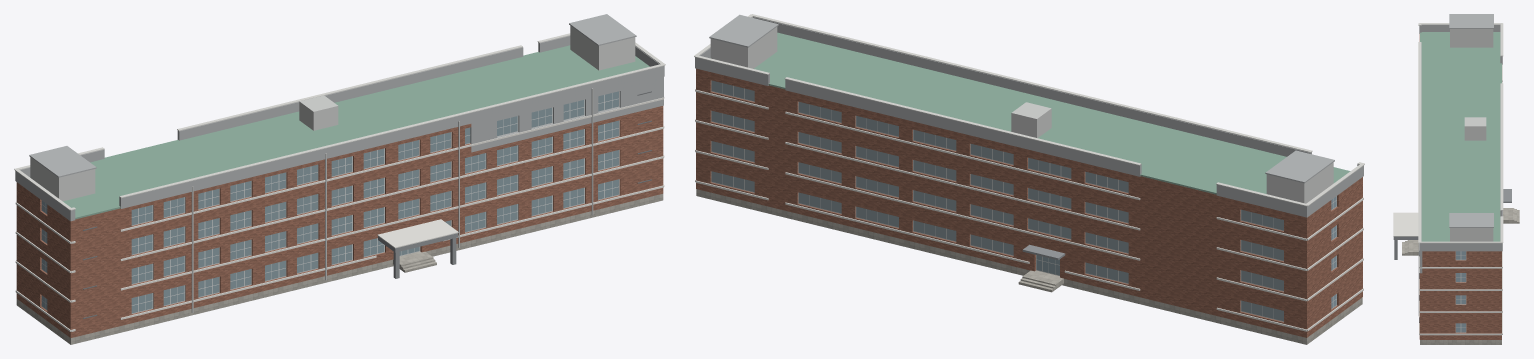
The picture shows the model from 3 angles, left to right: view 1: azimuth 30°, elevation 25°; view 2: azimuth 150°, elevation 25°; view 3: azimuth 270°, elevation 25°; orthographic projection. The views are drawn at different scales.
Parts seen in each view (by area): view 1: main__brick, main__greenroof, main__glass, main__greypanel, main__band, main__frame, main__stone, main__roofbox, main__cap, main__gutter, main__canopy; view 2: main__brick, main__greenroof, main__sideglass, main__greypanel, main__band, main__stone, main__roofbox, main__cap, main__frame; view 3: main__greenroof, main__brick, main__greypanel, main__roofbox, main__cap, main__band, main__stone, main__stairglass, main__canopy, main__frame, main__threshold-court, main__threshold-front (+2 smaller).
Part boxes in pixels (x1,y1,x2,y2): main__brick: [16, 106, 663, 337]; main__greenroof: [30, 45, 649, 219]; main__glass: [131, 91, 618, 313]; main__greypanel: [15, 14, 664, 221]; main__band: [15, 97, 664, 331]; main__frame: [41, 91, 619, 313]; main__stone: [16, 194, 663, 344]; main__roofbox: [30, 25, 635, 201]; main__cap: [14, 33, 665, 210]; main__gutter: [191, 88, 593, 312]; main__canopy: [378, 233, 457, 278]; main__brick: [696, 68, 1362, 337]; main__greenroof: [710, 32, 1350, 194]; main__sideglass: [711, 80, 1283, 321]; main__greypanel: [695, 14, 1363, 217]; main__band: [695, 89, 1363, 331]; main__stone: [696, 189, 1362, 344]; main__roofbox: [710, 27, 1333, 203]; main__cap: [694, 14, 1364, 206]; main__frame: [711, 80, 1336, 321]; main__greenroof: [1420, 32, 1501, 241]; main__brick: [1419, 34, 1501, 339]; main__greypanel: [1419, 14, 1502, 273]; main__roofbox: [1450, 29, 1493, 241]; main__cap: [1418, 23, 1503, 243]; main__band: [1393, 56, 1502, 335]; main__stone: [1420, 340, 1501, 344]; main__stairglass: [1456, 251, 1465, 332]; main__canopy: [1393, 189, 1511, 259]; main__frame: [1455, 251, 1466, 332]; main__threshold-court: [1503, 208, 1511, 223]; main__threshold-front: [1410, 240, 1418, 255].
Size of the model in its own units: 72.2 by 17.63 by 17.58.
Materials: 15 (2 with a texture image).
